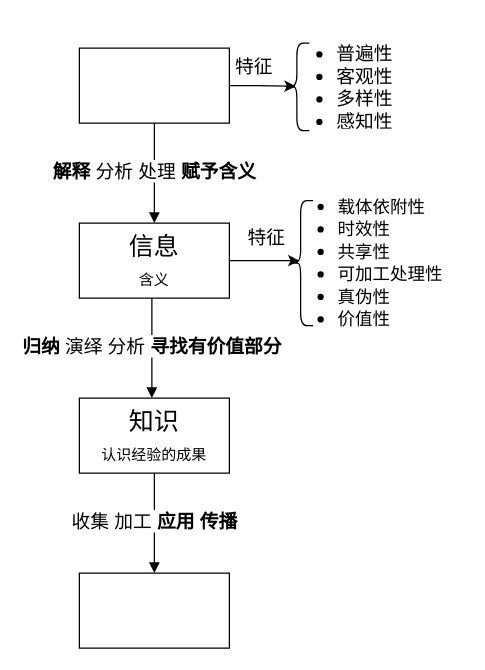
The diagram is 485 pixels wide and 670 high, and some of its shapes have lost their labels. The box of each missing label's shape, as (x1, y1, x2, y2) in pixels:
数据 符号表示: (78, 47, 229, 123)
智慧 判断力: (78, 572, 229, 648)
